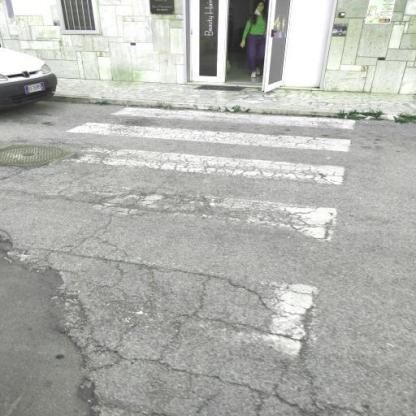crosswalk: (62, 105, 372, 157)
